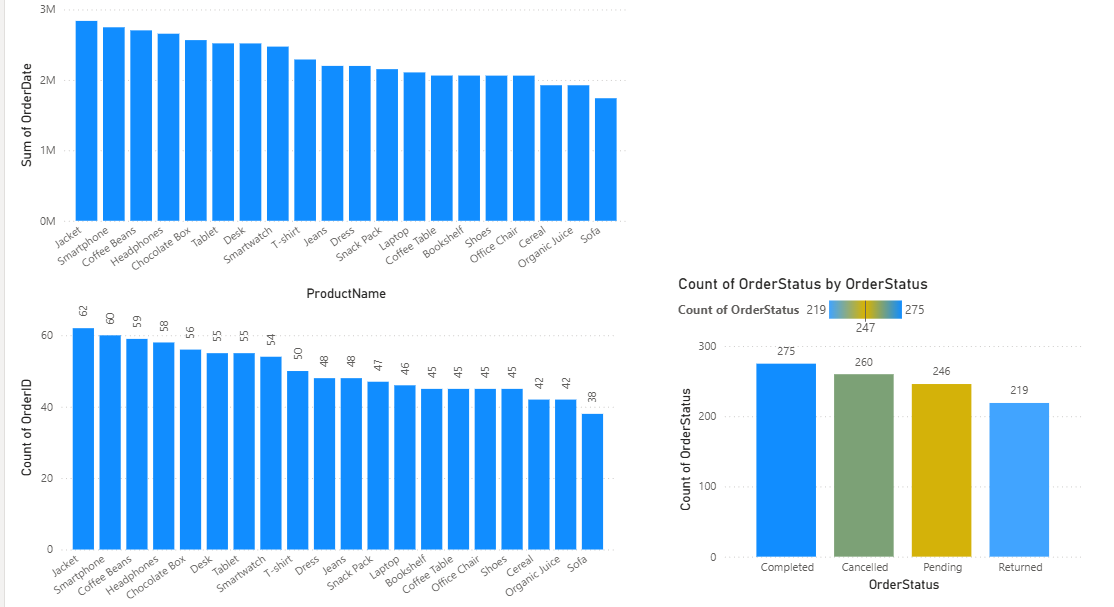

Layout of this report page (visuals, bound fields, positions):
{"tool":"powerbi","page":{"name":"Page 1","canvas":[1280,720],"ordinal":0},"visuals":[{"type":"clusteredColumnChart","fields":{"Y":["CountNonNull(Sheet1.OrderID)"],"Category":["Sheet1.ProductName"]},"box":[11,325.2,662.8,395.2],"z":0},{"type":"clusteredColumnChart","fields":{"Category":["Sheet1.OrderStatus"],"Y":["CountNonNull(Sheet1.OrderStatus)"]},"box":[734.1,325.2,454.2,354],"z":1000},{"type":"clusteredColumnChart","fields":{"Y":["Sum(Sheet1.OrderDate)"],"Category":["Sheet1.ProductName"]},"box":[11,0,677.9,359.5],"z":2000}]}

Visuals, with their boxes on the page's 1280x720 design canvas (x1, y1, x2, y2). These are canvas units, not pixel positions in the 1114x607 screenshot, which may show the page scaled, cropped or inside an application window:
clusteredColumnChart - CountNonNull(Sheet1.OrderID) x Sheet1.ProductName: l=11, t=325, r=674, b=720
clusteredColumnChart - Sheet1.OrderStatus x CountNonNull(Sheet1.OrderStatus): l=734, t=325, r=1188, b=679
clusteredColumnChart - Sum(Sheet1.OrderDate) x Sheet1.ProductName: l=11, t=0, r=689, b=360
